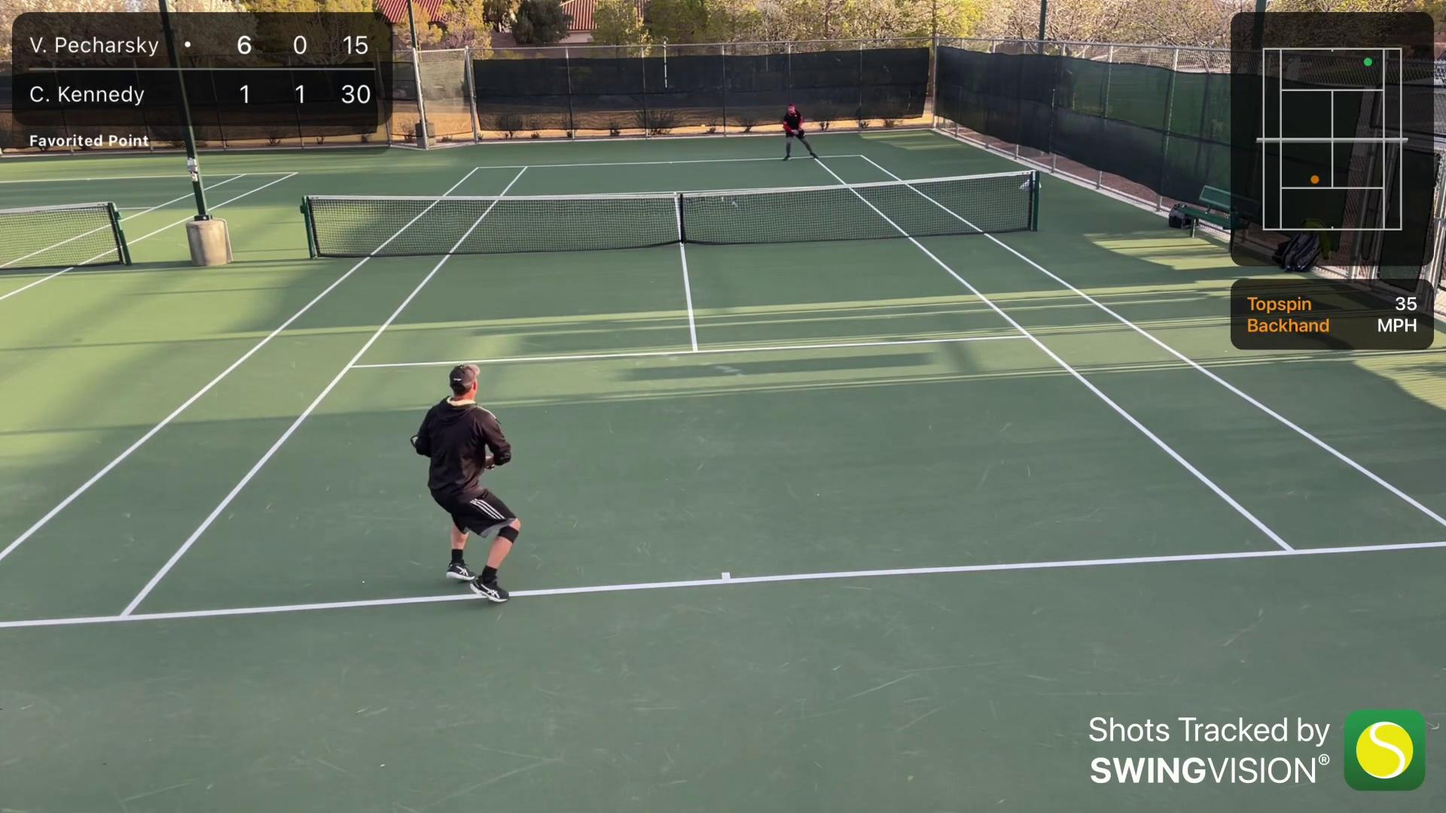ball: (700, 124, 705, 129)
